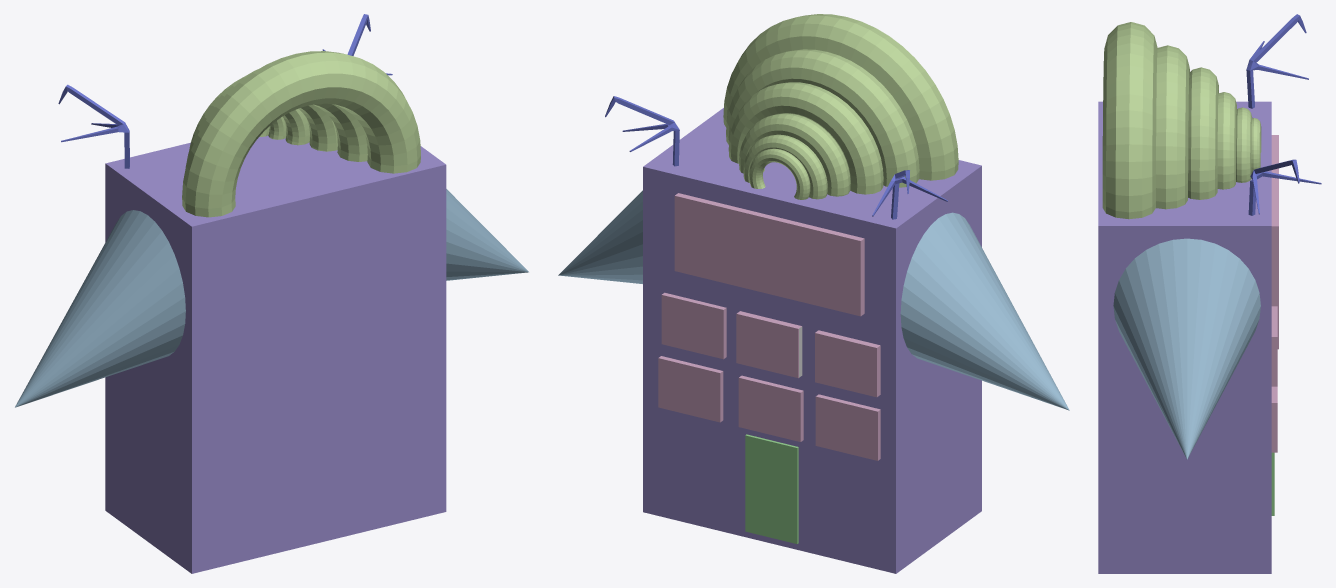
File: BAT2.fbx
3 renders of one model, left to right at view 1: azimuth 30°, elevation 25°; view 2: azimuth 150°, elevation 25°; view 3: azimuth 270°, elevation 25°, orthographic.
Visible parts, largest first — view 1: Cube, Torus_006, Cone_001, Cube_011; view 2: Cube, Cube_008, Torus_006, Cone_001, Cube_009, Cube_011; view 3: Cube, Torus_006, Cone_001, Cube_008, Cube_011.
Part boxes in pixels (x1,y1,x2,y2): Cube: [105, 135, 446, 573]; Torus_006: [182, 51, 420, 217]; Cone_001: [15, 189, 528, 407]; Cube_011: [58, 14, 392, 168]; Cube: [643, 108, 981, 573]; Cube_008: [658, 193, 880, 460]; Torus_006: [723, 14, 958, 199]; Cone_001: [558, 190, 1069, 410]; Cube_009: [745, 434, 798, 543]; Cube_011: [605, 96, 947, 219]; Cube: [1098, 101, 1271, 573]; Torus_006: [1102, 22, 1261, 219]; Cone_001: [1113, 238, 1260, 459]; Cube_008: [1271, 135, 1278, 452]; Cube_011: [1246, 14, 1321, 215].
Size of the model in its own units: 4.13 by 3.65 by 1.55.
